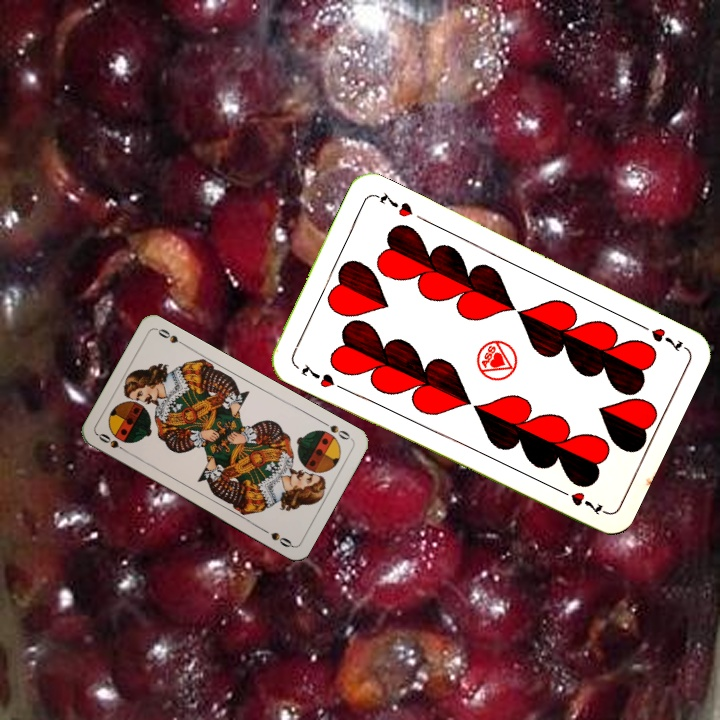H7: (633, 318, 688, 355), (297, 361, 337, 391)
SO: (94, 429, 131, 456), (318, 417, 355, 443)
